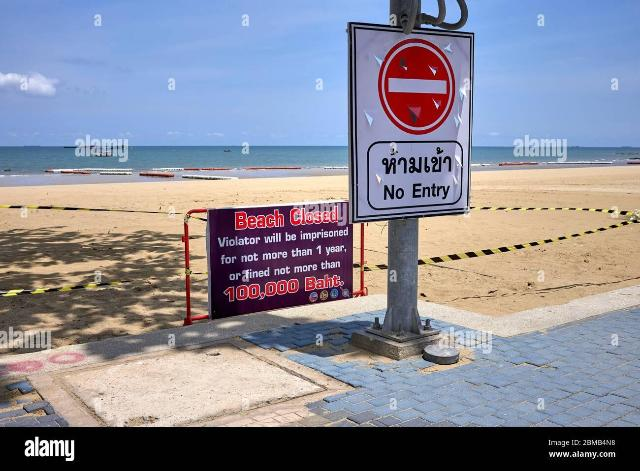B2: (381, 39, 454, 134)
